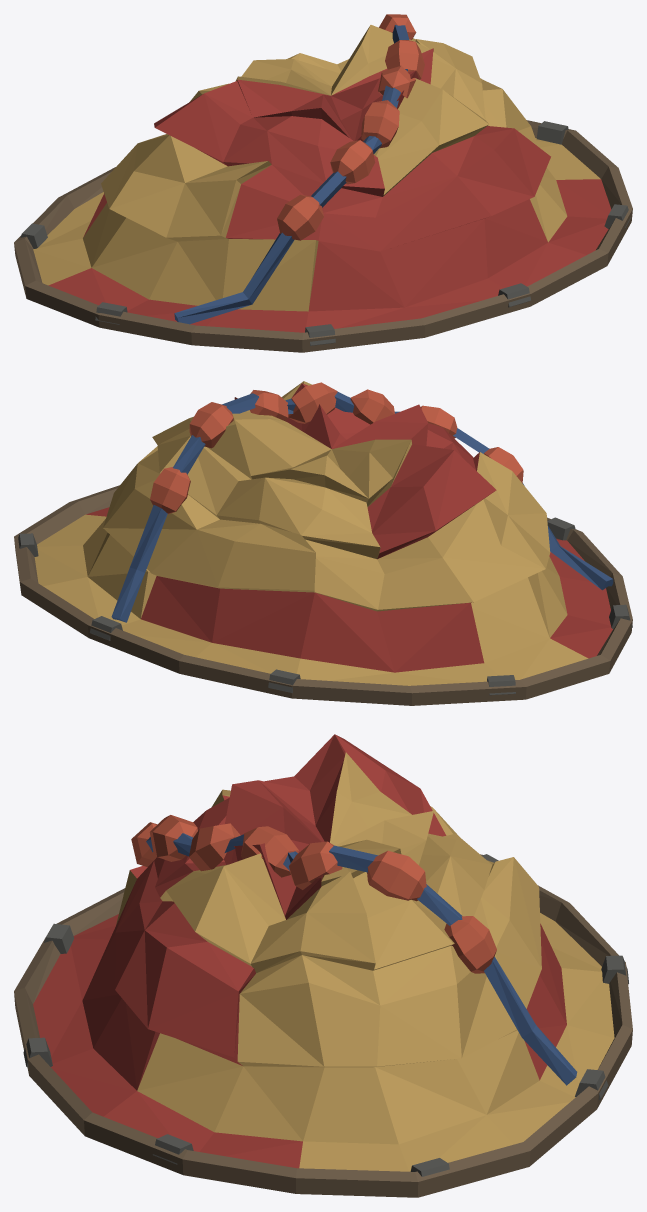
File: fishing-net-heap-d0ce10.glb
The picture shows the model from 3 angles, top to bottom: view 1: azimuth 30°, elevation 25°; view 2: azimuth 150°, elevation 25°; view 3: azimuth 270°, elevation 25°; orthographic projection. The views are drawn at different scales.
Parts seen in each view (by area): view 1: net-heap; view 2: net-heap; view 3: net-heap.
Boxes of the visible parts, x1,y1,x2,y2 form: net-heap: (14, 14, 632, 352); net-heap: (14, 381, 632, 705); net-heap: (14, 734, 632, 1197).
Size of the model in its own units: 1.99 by 0.6075 by 1.49.
